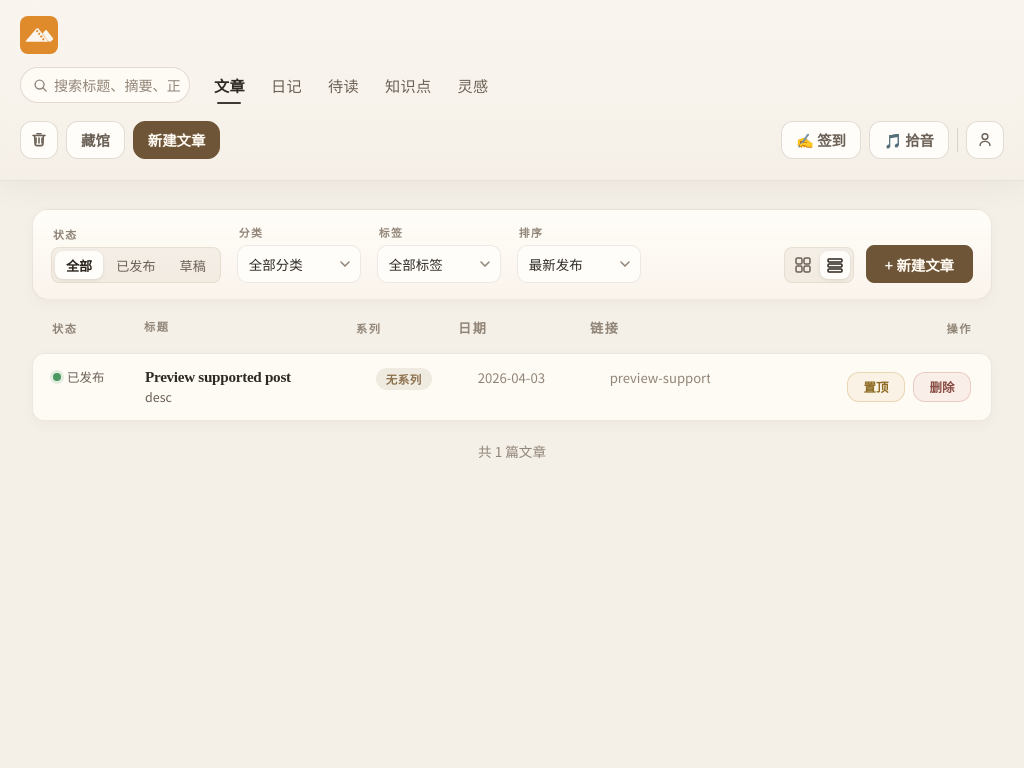
Scenario: App preview mode › renders the current document title, date, and body in preview mode
Expected: the text "Preview supported post" is shown, [145,368,291,386]
Click the button "Preview supported post" at x=86, y=377, box [53,368,831,406]
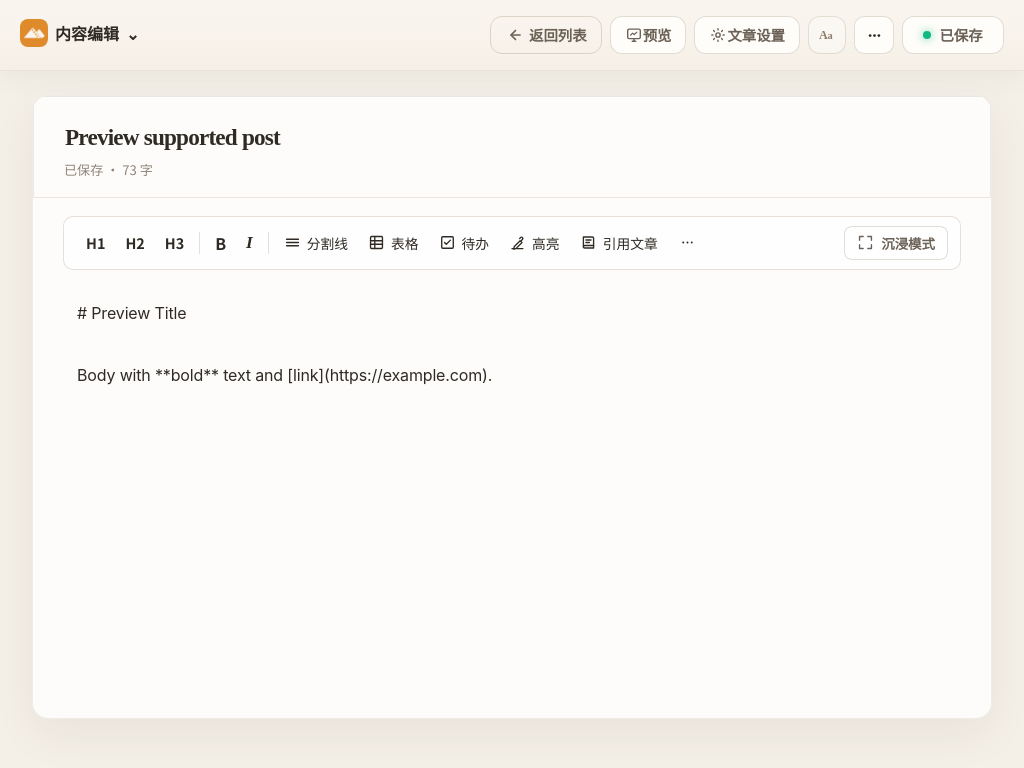
Expected: the text box named "Markdown 编辑器" is shown, [63,270,961,688]
Click the button "预览" at x=648, y=35, box [610,16,686,54]
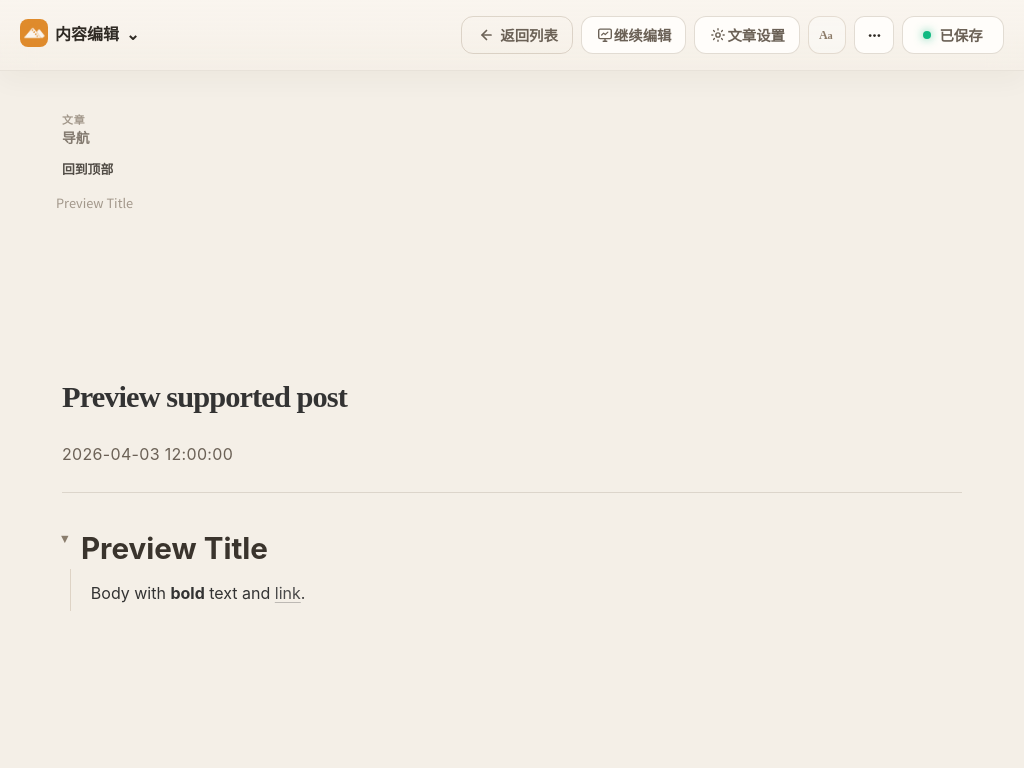
Expected: the heading "Preview supported post" is shown, [62,380,347,414]
Expected: the text "2026-04-03 12:00:00" is shown, [62,444,233,464]
Expected: the heading "Preview Title" is shown, [81,529,268,568]
